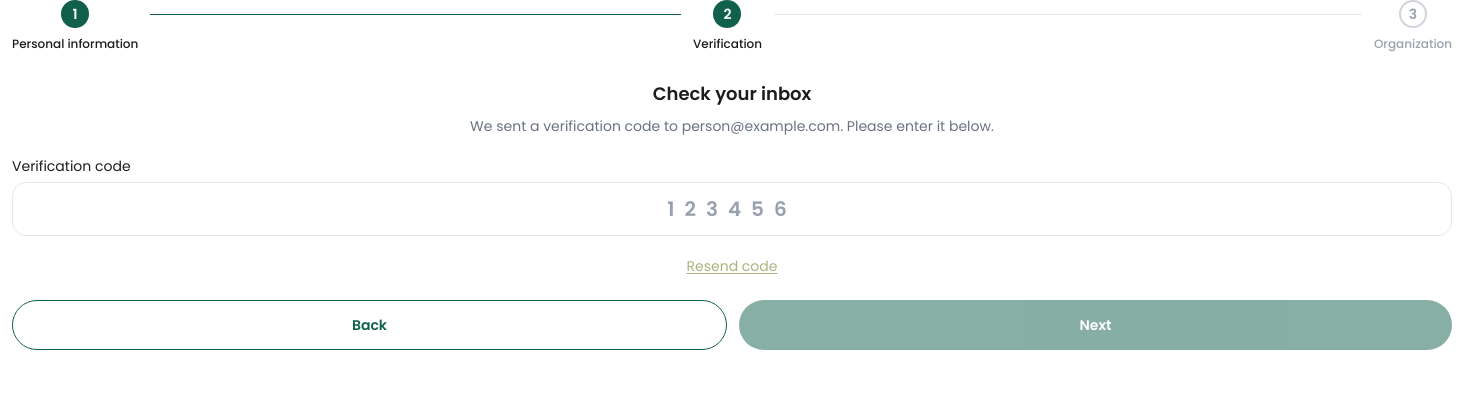
Scenario: SignUpVerifyForm › shows the resend-locked message on a 429 RESEND_LIMIT_EXCEEDED
Click the button "Resend code". click: x=732, y=266
box: [12,256,1452,276]
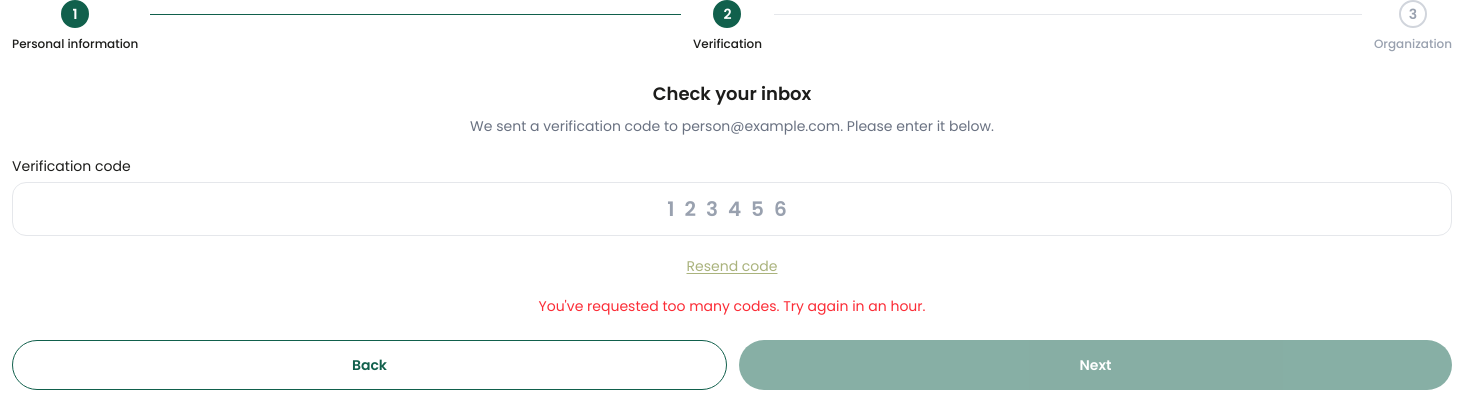
Result: the text "You've requested too many codes. Try again in an hour." is shown at [538,296,926,316]
